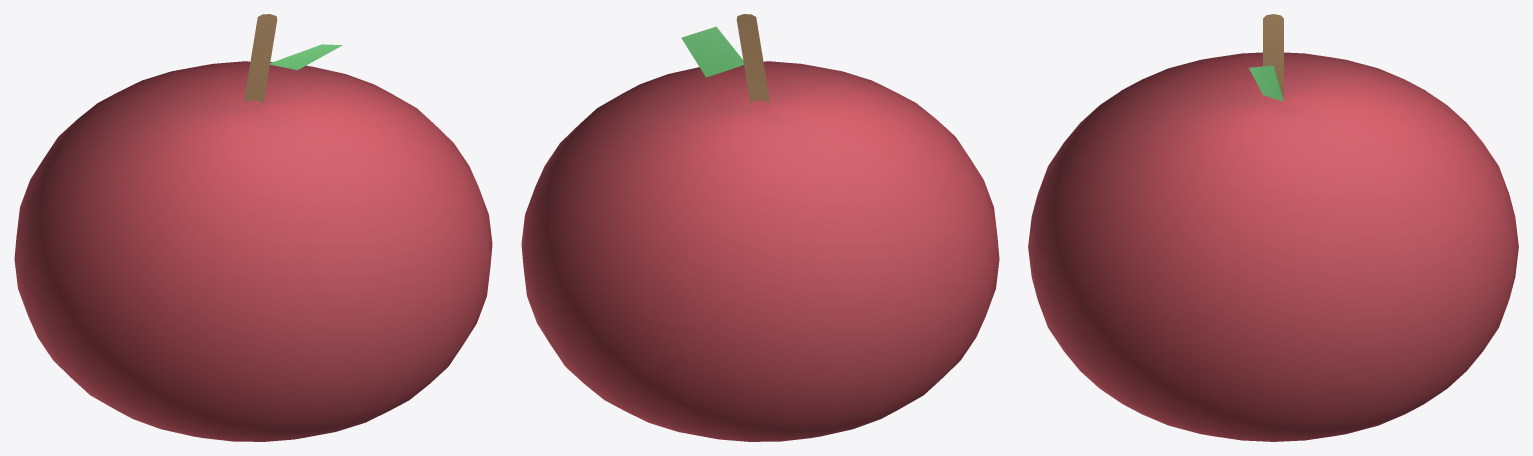
The model's file is apple.glb.
The picture shows the model from 3 angles, left to right: view 1: azimuth 30°, elevation 25°; view 2: azimuth 150°, elevation 25°; view 3: azimuth 270°, elevation 25°; orthographic projection. The views are drawn at different scales.
Bounding box in the file's own units: 2.36 × 2.03 × 2.36.
